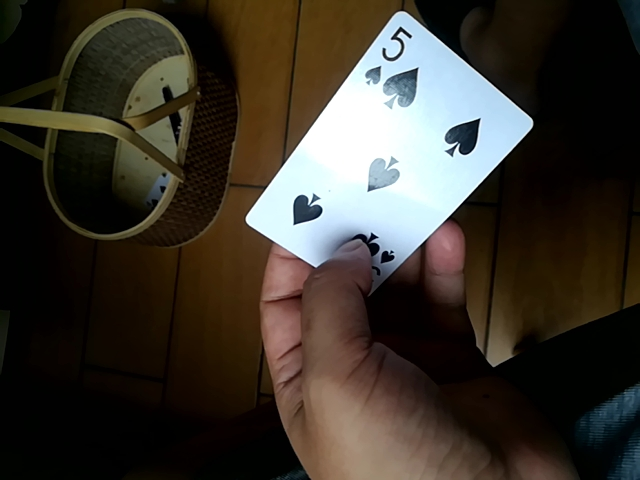ht 5: (245, 8, 532, 285)
